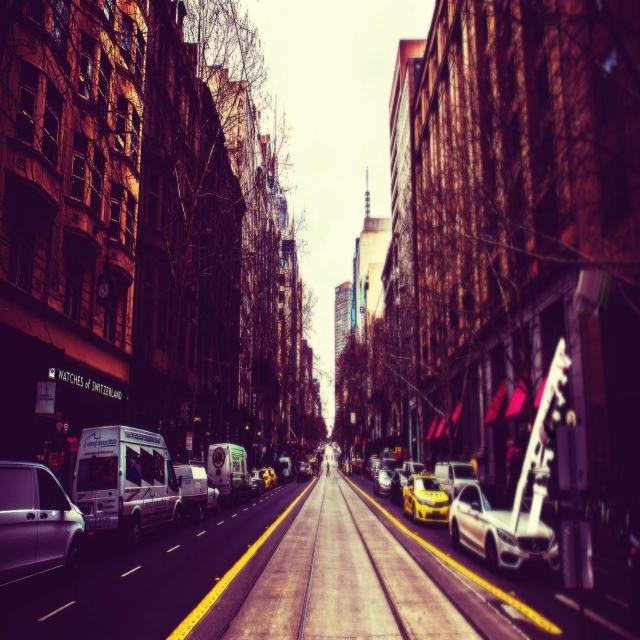airplane: (511, 336, 571, 540)
